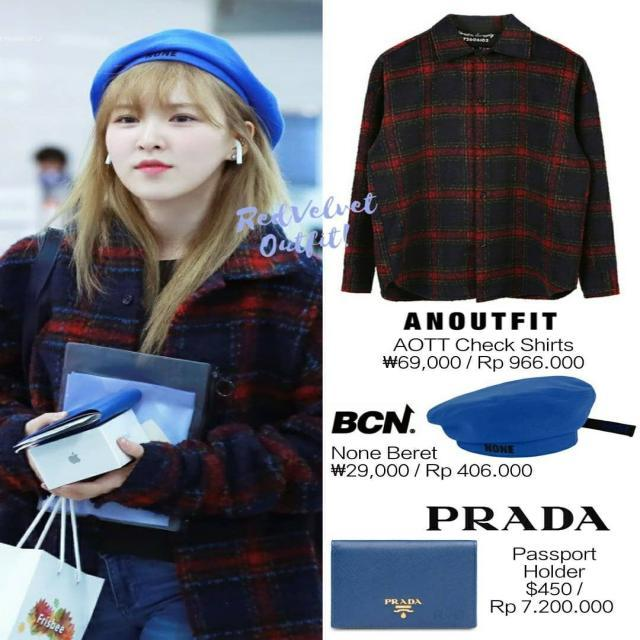earphone: (223, 120, 255, 177), (100, 142, 118, 173)
